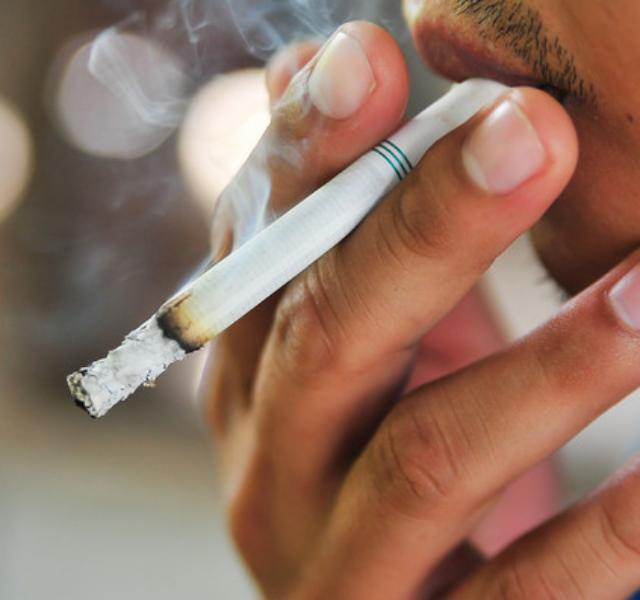Smoking: (64, 74, 522, 424)
